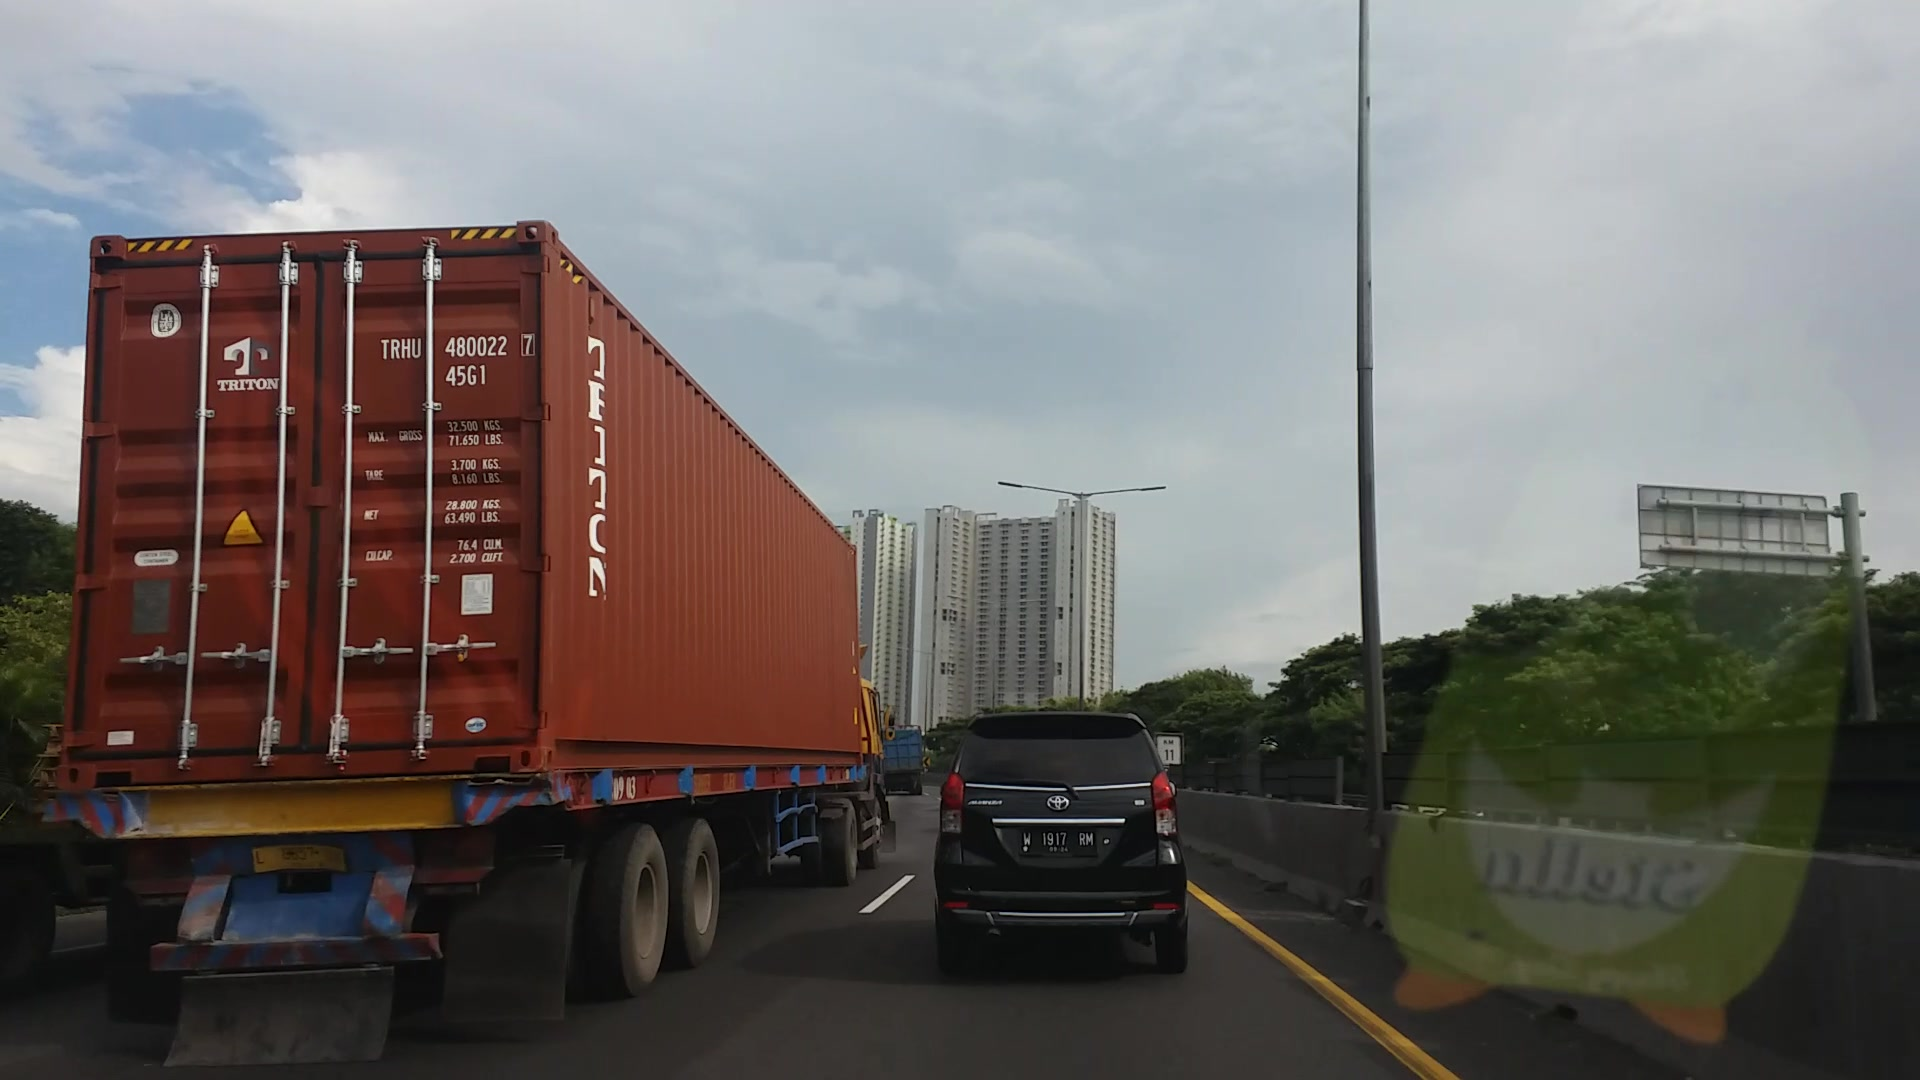plate_positive: (1019, 827, 1097, 858)
